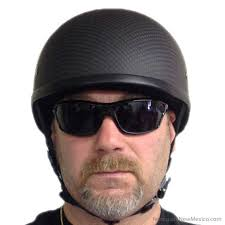helmet: (20, 3, 208, 214)
